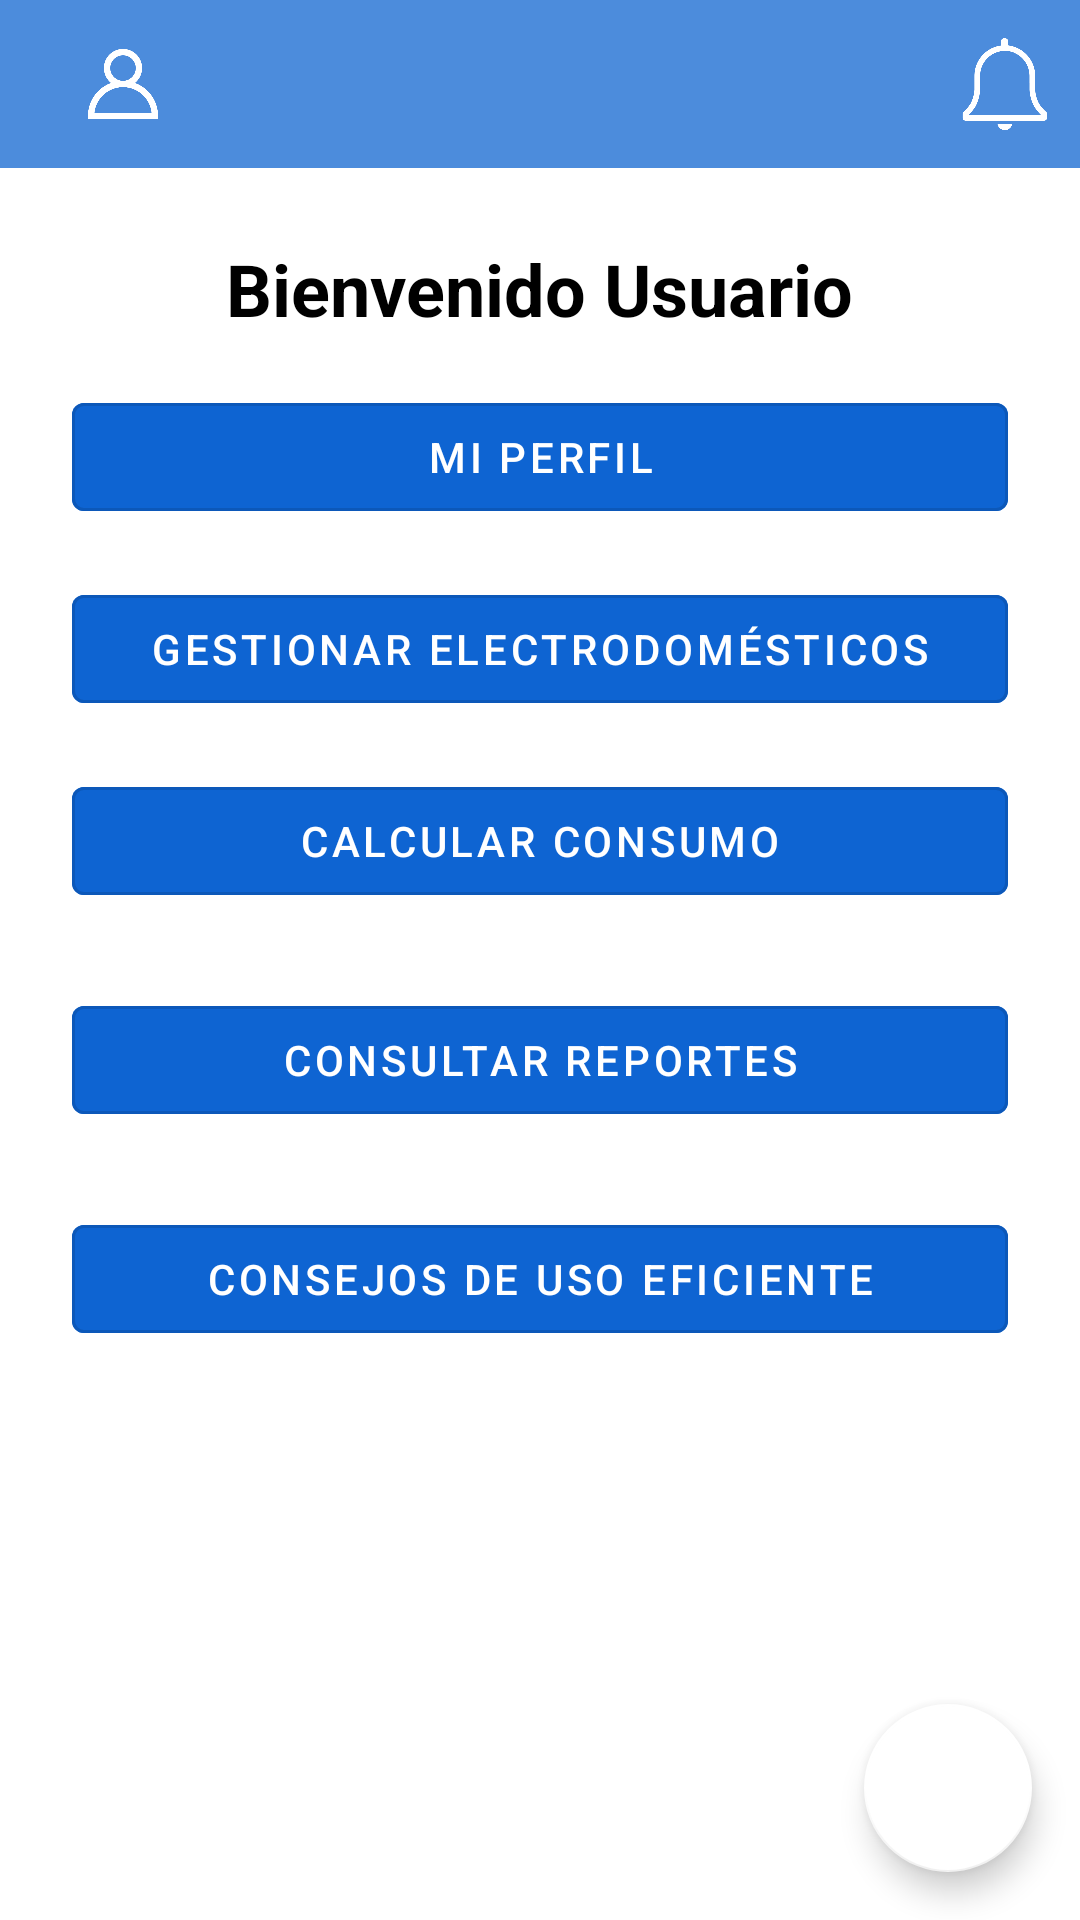

Named icons in this screenshot (1080x1920) and their bounding boxes, (x1, y1, x2, y2):
Notification Icon: (963, 38, 1047, 130)
User Icon: (88, 49, 158, 119)
